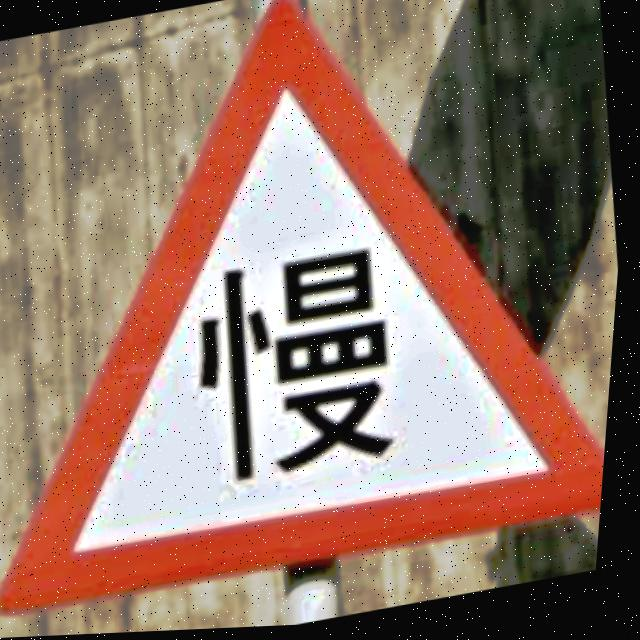slow: (6, 0, 612, 621)
